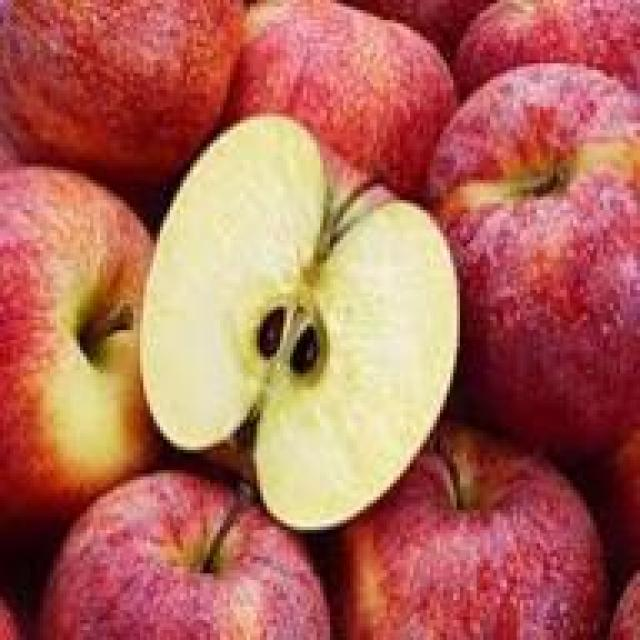apple: (143, 120, 460, 517), (416, 63, 640, 409), (343, 426, 599, 640), (230, 7, 467, 213), (40, 470, 320, 640)
